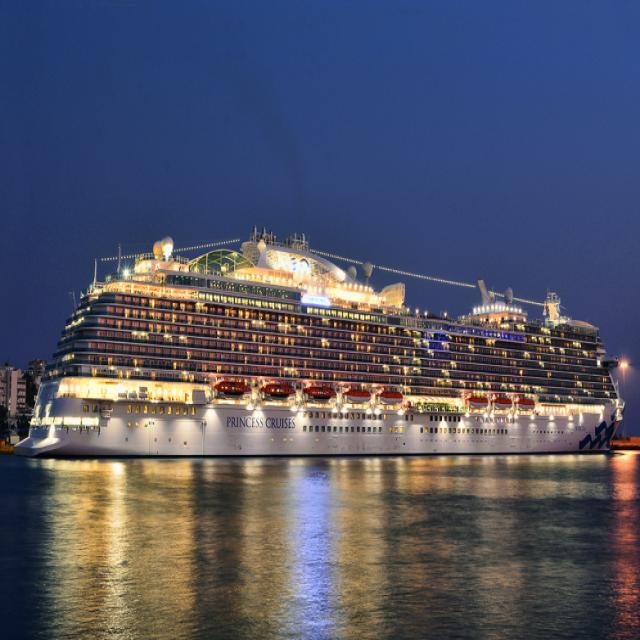cruises: (11, 224, 631, 468)
